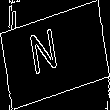N_S: (38, 26, 72, 84)
